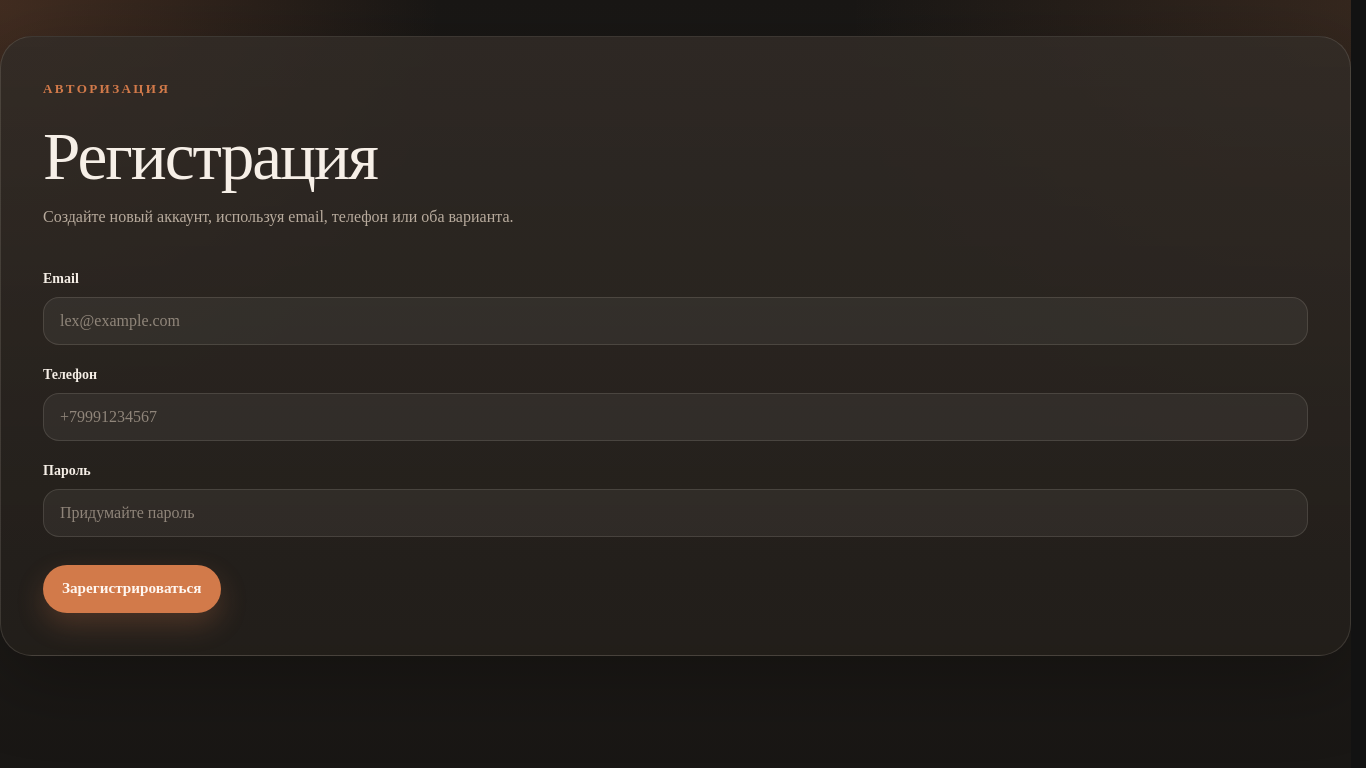
Test: RegisterPage › shows localized validation error for invalid phone
In the field labelled "Телефон": x=676, y=416 [43,392,1308,440], type "12345"
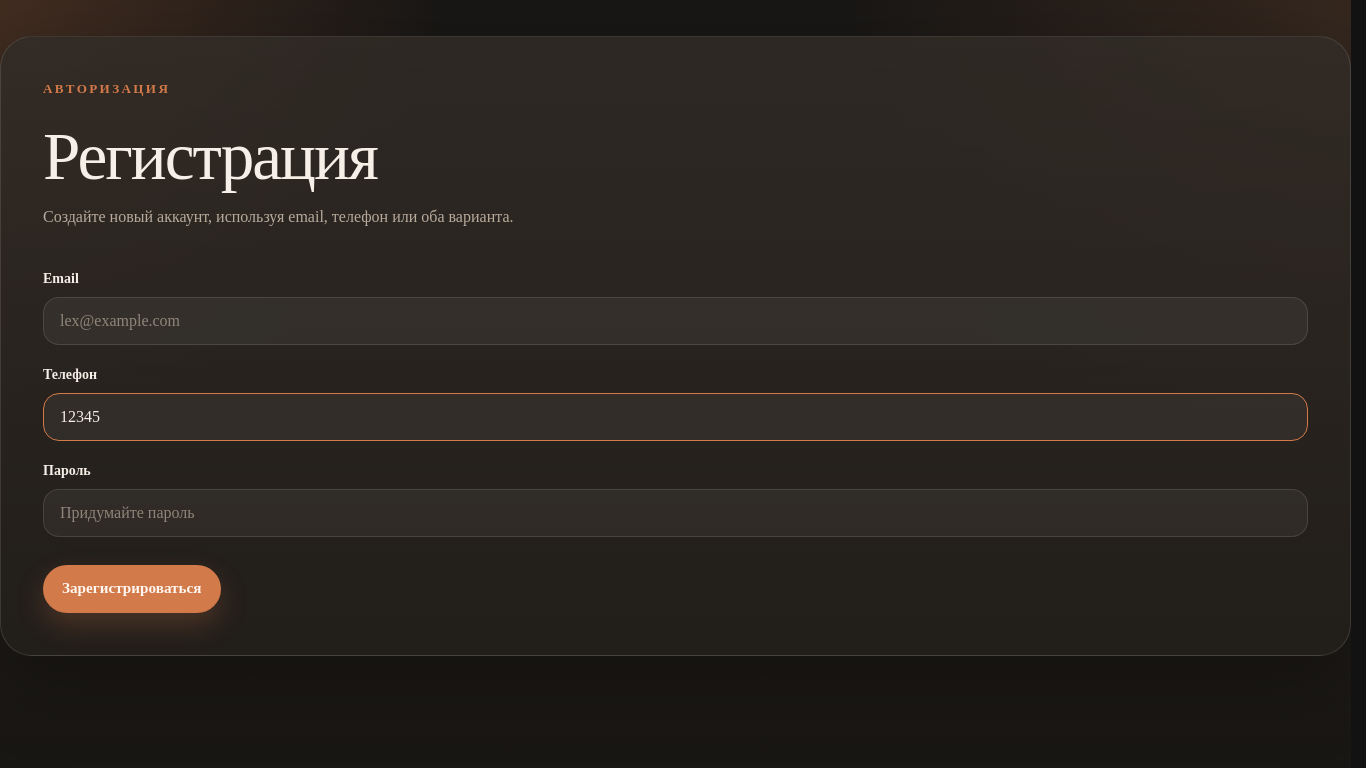
In the password field labelled "Пароль": x=676, y=512 [43,488,1308,536], type "password123"
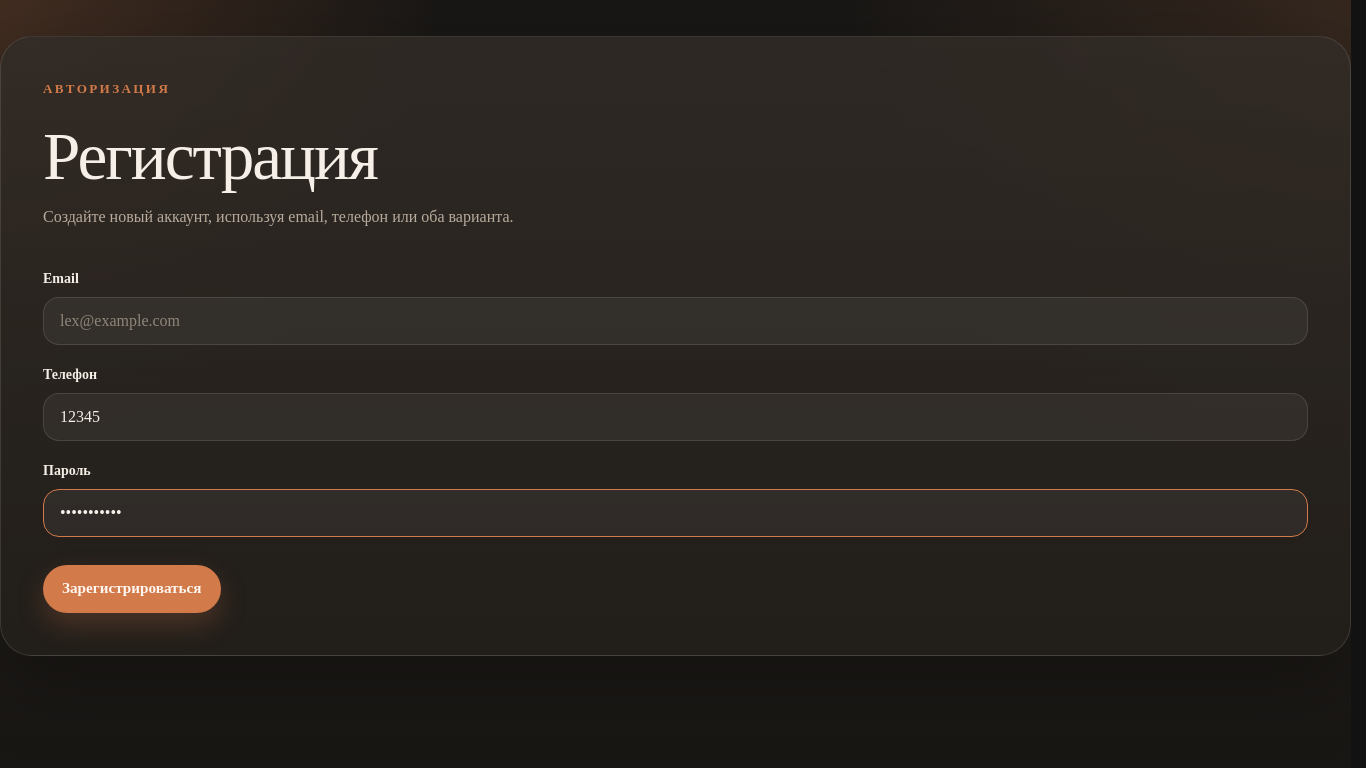
Click the button "Зарегистрироваться": x=132, y=588 [43,564,220,612]
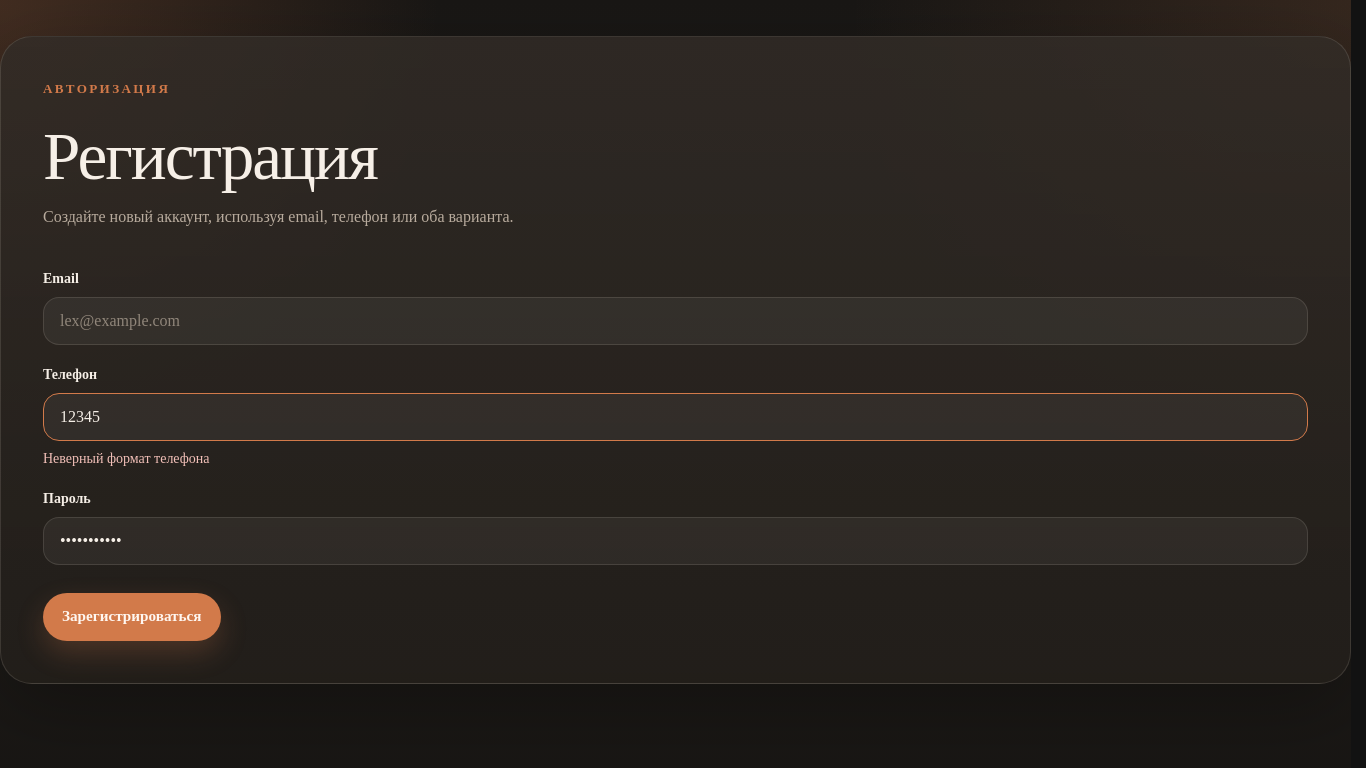
expect the text "Неверный формат телефона" is shown: met, box [43,450,210,466]
